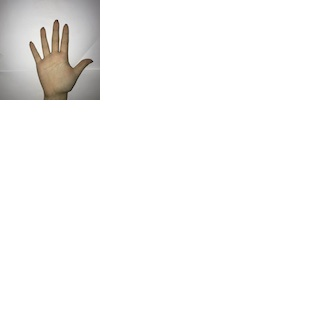paper: (24, 18, 93, 96)
